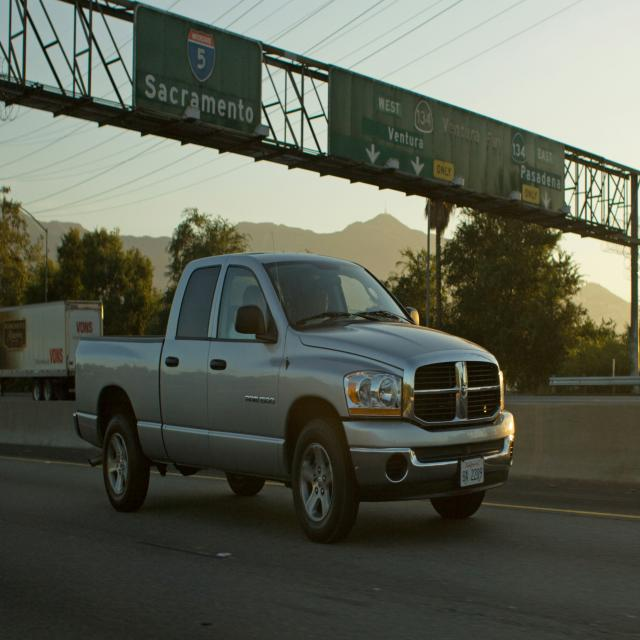Car: (76, 254, 514, 541)
